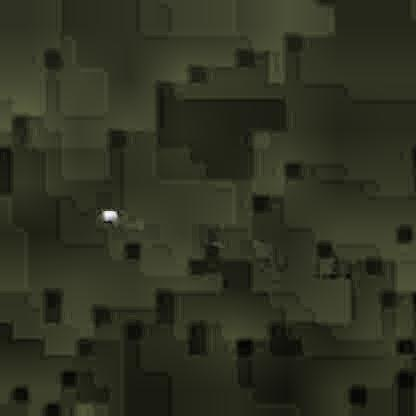golfball: (99, 207, 116, 222)
